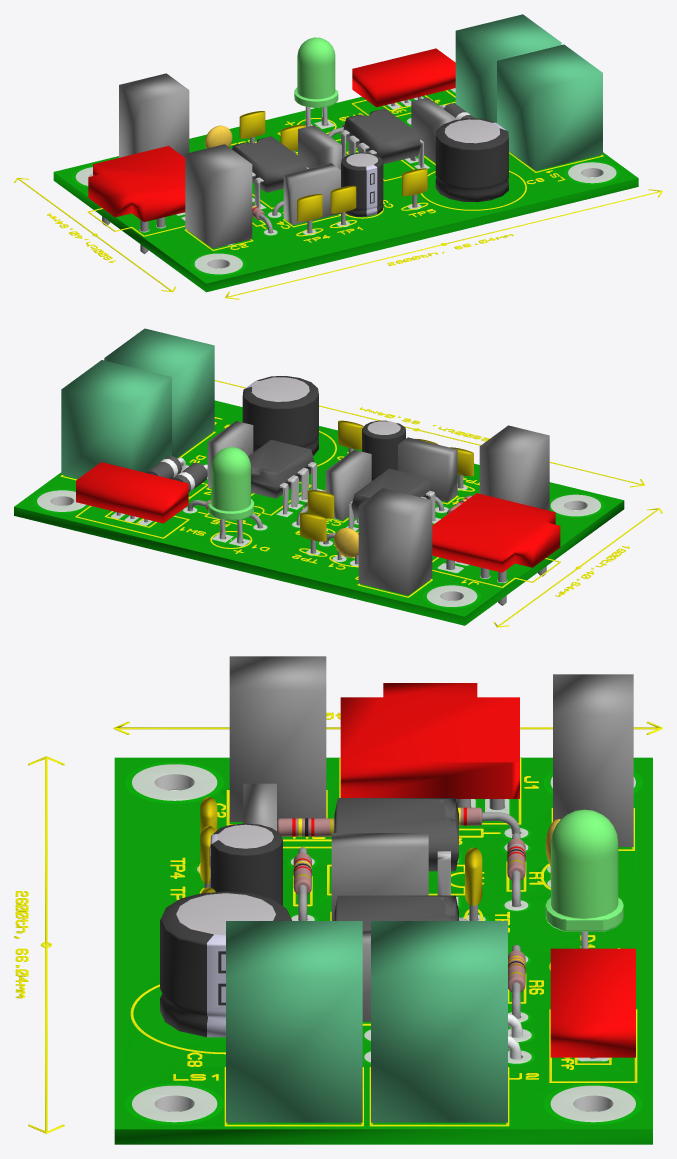
The model's file is pcb.glb.
3 views of the same model, one above another, from view 1: azimuth 30°, elevation 25°; view 2: azimuth 150°, elevation 25°; view 3: azimuth 270°, elevation 25° (orthographic). The views are drawn at different scales.
Visible parts, largest first — view 1: 3DSMesh_2, 3DSMesh_26, 3DSMesh_78, 3DSMesh_72, 3DSMesh_51, 3DSMesh_6, 3DSMesh_75, 3DSMesh_17, 3DSMesh_4, 3DSMesh_24, 3DSMesh_38, 3DSMesh_66 (+16 smaller); view 2: 3DSMesh_2, 3DSMesh_51, 3DSMesh_72, 3DSMesh_75, 3DSMesh_26, 3DSMesh_6, 3DSMesh_78, 3DSMesh_24, 3DSMesh_4, 3DSMesh_17, 3DSMesh_0, 3DSMesh_66 (+16 smaller); view 3: 3DSMesh_2, 3DSMesh_26, 3DSMesh_51, 3DSMesh_72, 3DSMesh_78, 3DSMesh_75, 3DSMesh_24, 3DSMesh_4, 3DSMesh_6, 3DSMesh_66, 3DSMesh_0, 3DSMesh_112 (+13 smaller).
Boxes of the visible parts, <box> form: 3DSMesh_2: <box>54,90,638,283</box>; 3DSMesh_26: <box>497,44,602,170</box>; 3DSMesh_78: <box>185,144,252,248</box>; 3DSMesh_72: <box>88,146,185,221</box>; 3DSMesh_51: <box>455,14,561,122</box>; 3DSMesh_6: <box>53,172,638,292</box>; 3DSMesh_75: <box>119,73,189,157</box>; 3DSMesh_17: <box>435,118,508,202</box>; 3DSMesh_4: <box>14,90,662,299</box>; 3DSMesh_24: <box>352,48,455,107</box>; 3DSMesh_38: <box>343,108,420,164</box>; 3DSMesh_66: <box>294,37,338,107</box>; 3DSMesh_2: <box>14,400,623,616</box>; 3DSMesh_51: <box>61,360,171,478</box>; 3DSMesh_72: <box>432,493,560,572</box>; 3DSMesh_75: <box>358,488,432,595</box>; 3DSMesh_26: <box>104,328,214,457</box>; 3DSMesh_6: <box>14,500,624,625</box>; 3DSMesh_78: <box>479,425,549,510</box>; 3DSMesh_24: <box>76,462,188,523</box>; 3DSMesh_4: <box>60,380,662,627</box>; 3DSMesh_17: <box>242,376,318,455</box>; 3DSMesh_0: <box>37,465,600,606</box>; 3DSMesh_66: <box>208,447,254,520</box>; 3DSMesh_2: <box>114,757,652,1129</box>; 3DSMesh_26: <box>226,921,362,1122</box>; 3DSMesh_51: <box>371,921,507,1122</box>; 3DSMesh_72: <box>340,683,519,798</box>; 3DSMesh_78: <box>229,656,326,821</box>; 3DSMesh_75: <box>553,674,633,846</box>; 3DSMesh_24: <box>550,948,635,1057</box>; 3DSMesh_4: <box>14,712,662,1133</box>; 3DSMesh_6: <box>114,1129,652,1144</box>; 3DSMesh_66: <box>545,809,623,931</box>; 3DSMesh_0: <box>132,764,635,1122</box>; 3DSMesh_112: <box>331,833,428,920</box>.
Bounding box in the file's own units: 7.39 × 1.63 × 4.82.
